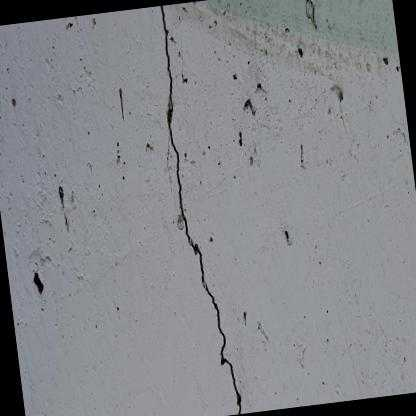crack: (158, 4, 241, 414), (165, 134, 171, 193)
